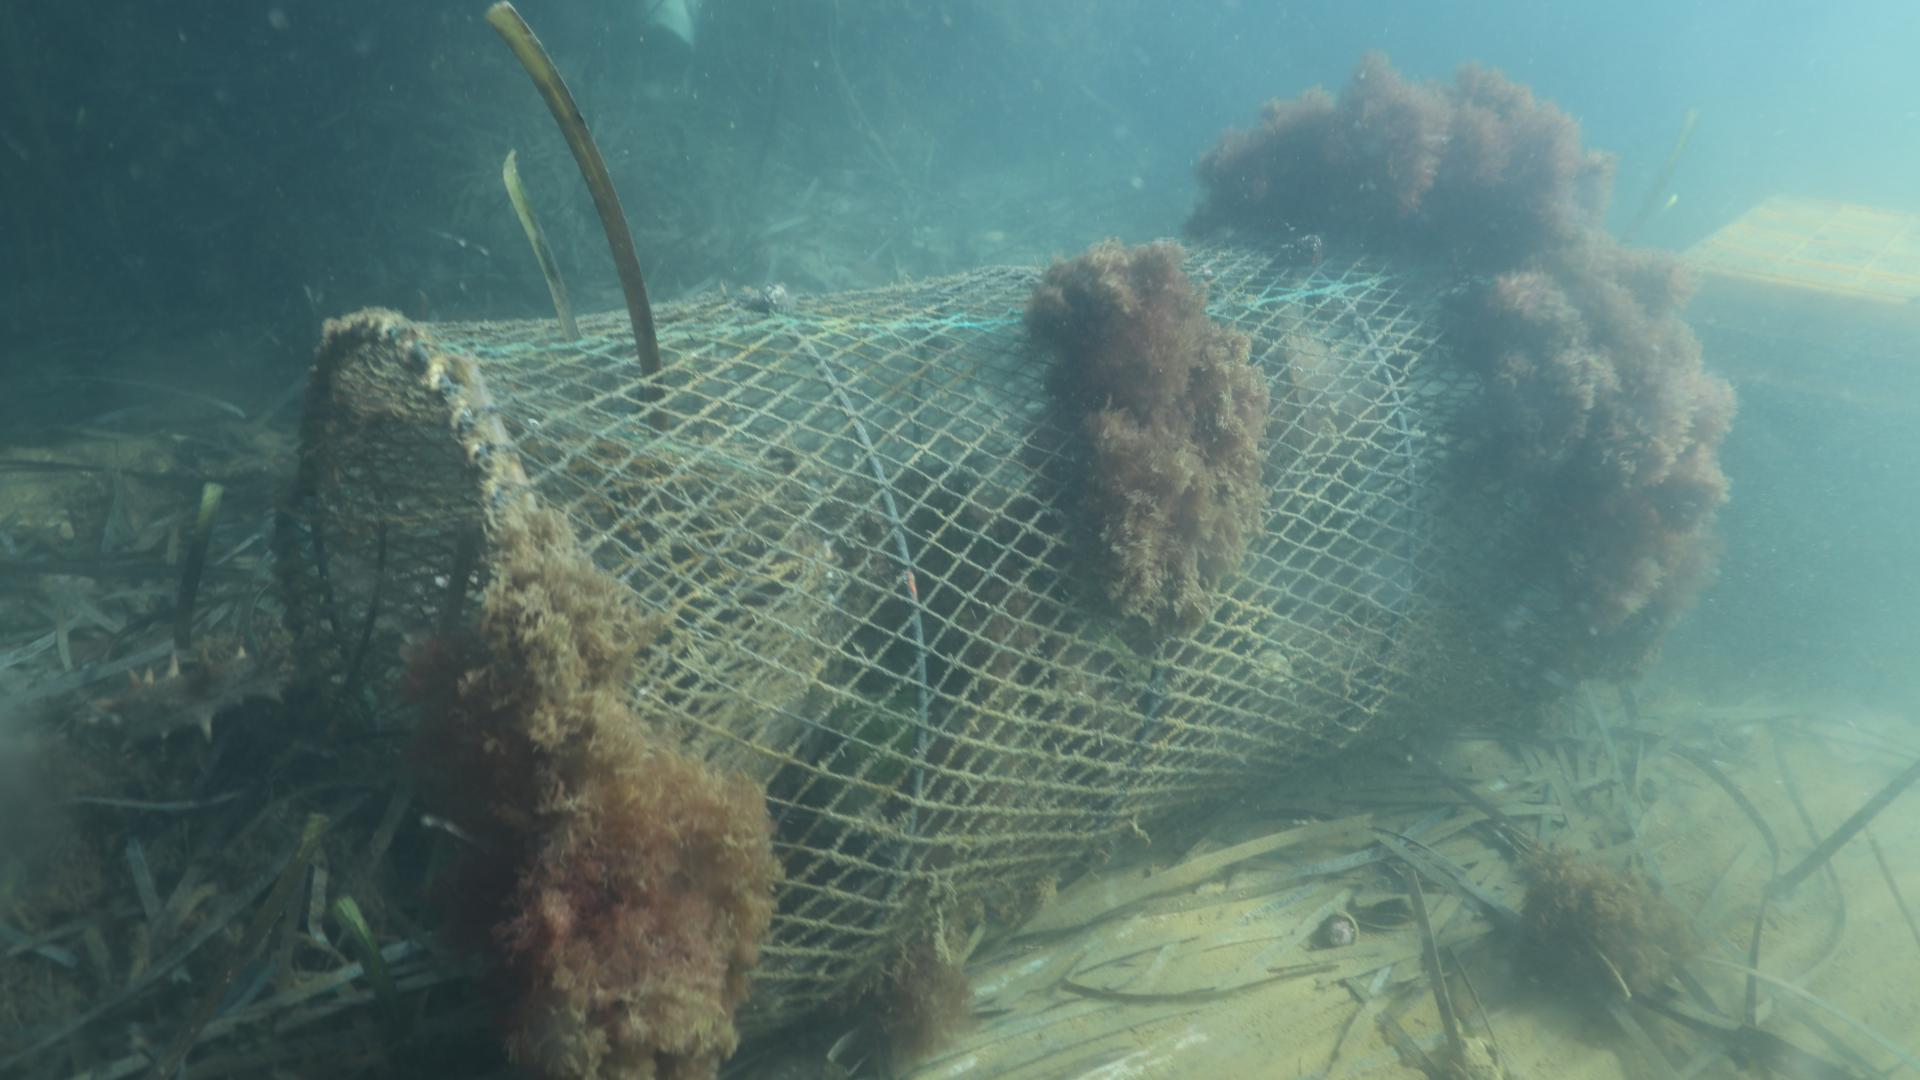spring fish trap: (282, 224, 1542, 1077)
